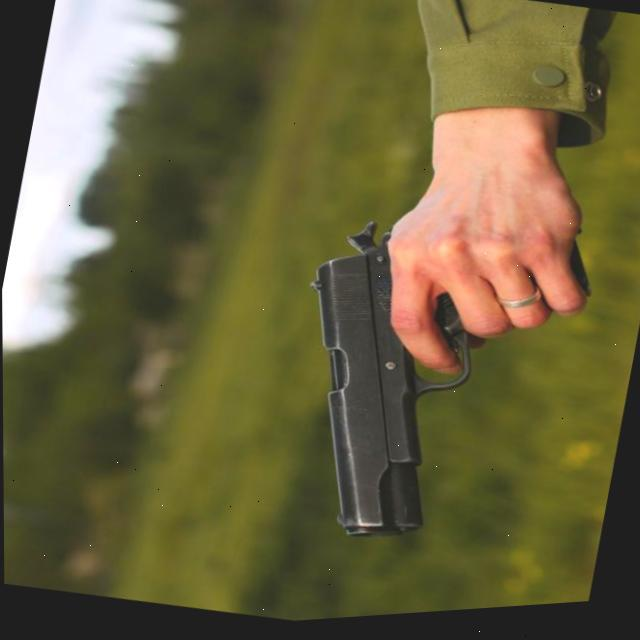gun: (262, 209, 498, 562)
